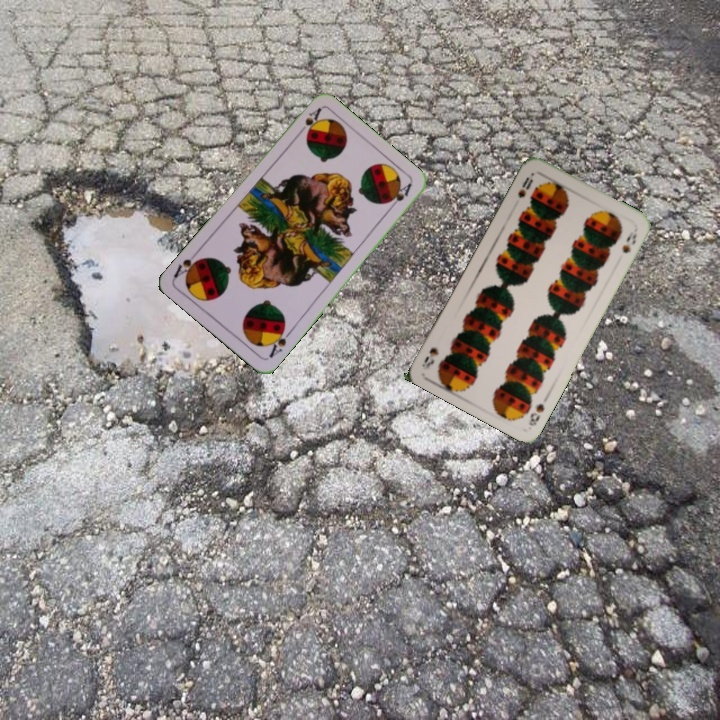S8: (525, 391, 551, 429), (514, 173, 536, 200)
SA: (264, 322, 294, 360), (293, 104, 324, 139)
